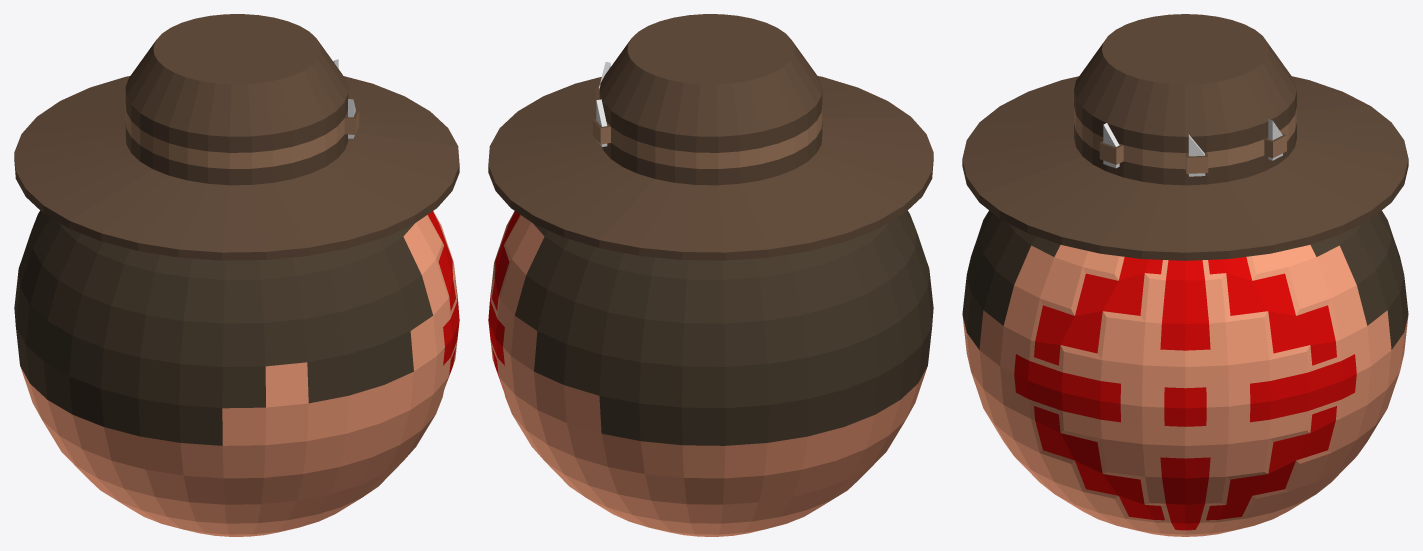
Rendered from sniper.glb.
3 views of the same model, side by side, from view 1: azimuth 30°, elevation 25°; view 2: azimuth 150°, elevation 25°; view 3: azimuth 270°, elevation 25° (orthographic).
Parts seen in each view (by area): view 1: Sphere, Cylinder; view 2: Sphere, Cylinder; view 3: Sphere, Cylinder.
Boxes of the visible parts, x1,y1,x2,y2 form: Sphere: (14,210,459,536); Cylinder: (14,14,459,260); Sphere: (488,210,933,536); Cylinder: (488,14,933,260); Sphere: (962,210,1408,536); Cylinder: (962,14,1408,260).
Bounding box in the file's own units: 1 × 1.15 × 1.
